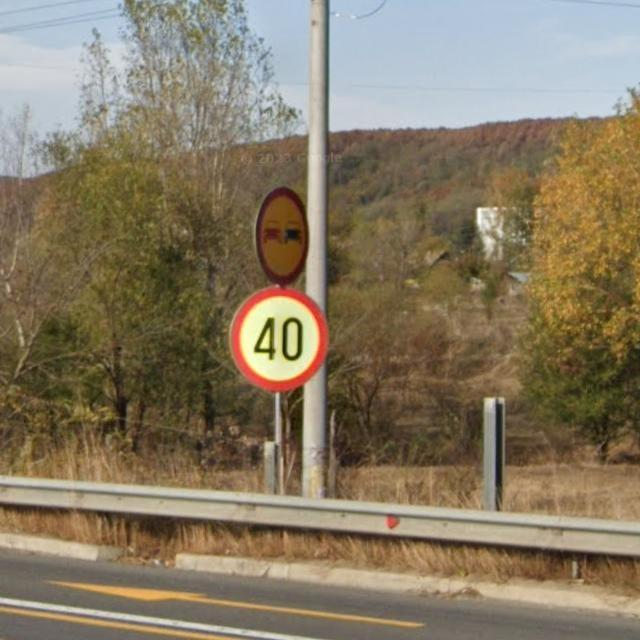forb_overtake: (252, 187, 310, 286)
forb_speed_over_40: (226, 289, 330, 391)
